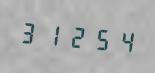five: (87, 20, 109, 55)
four: (110, 22, 132, 57)
one: (41, 16, 63, 51)
three: (18, 14, 40, 49)
two: (64, 18, 86, 53)
